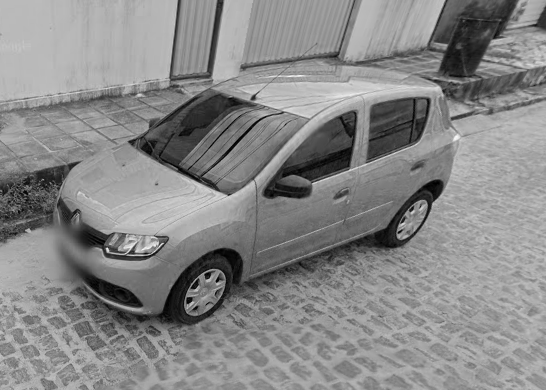car: (40, 36, 463, 326)
